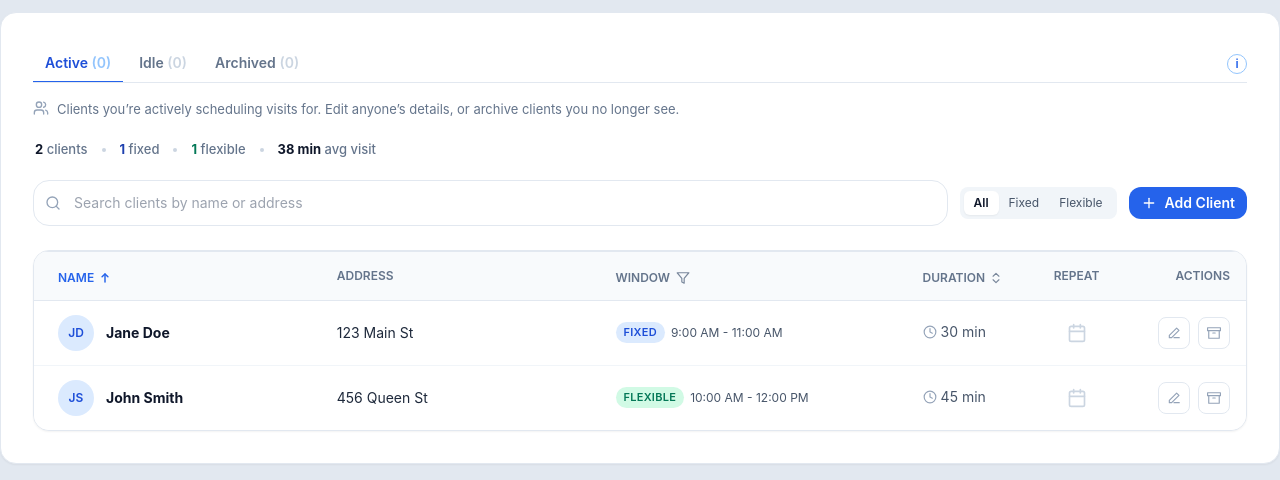
it: PatientsPage › filters by first/last name substring as user types
The image size is (1280, 480).
Type "smi" into the search field labelled "Search clients" at [490, 203], box [33,180,948,226]
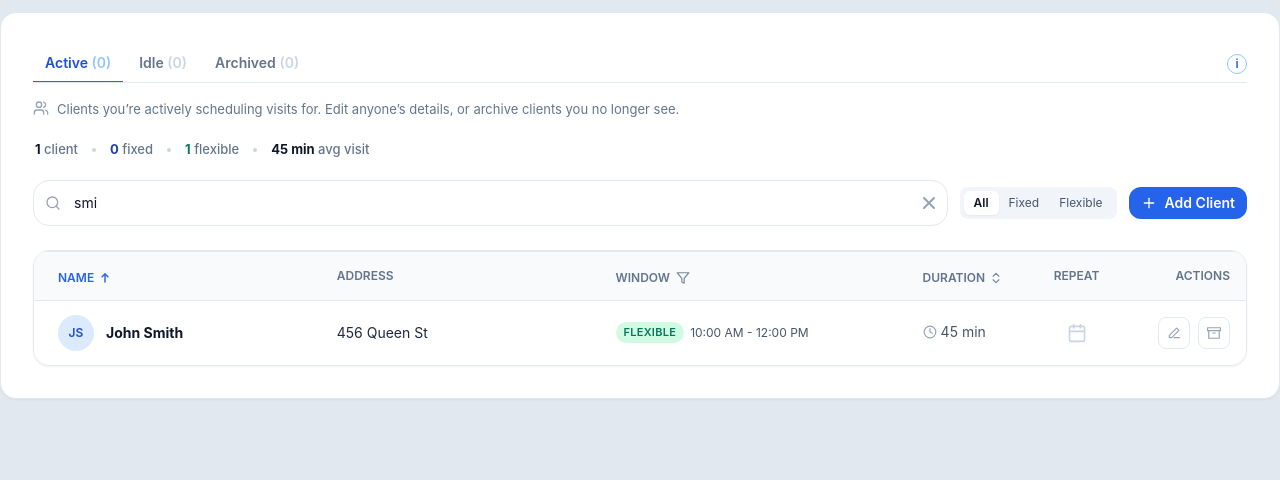
Check: the text "Jane Doe" is not shown
